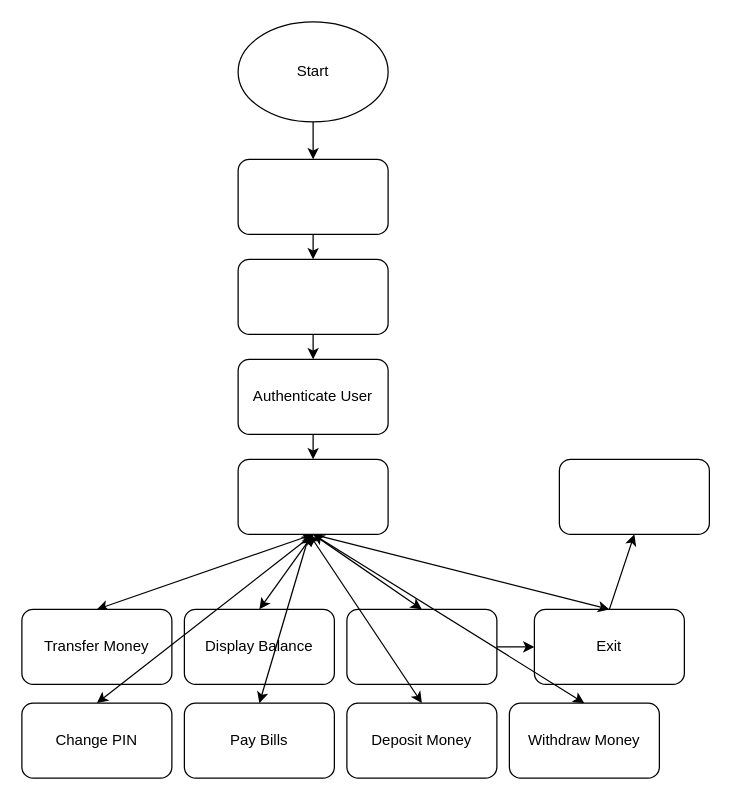
This 731x800 diagram has some shape labels left out. The centre of each missing label's shape, as x and y in pixels:
"Initialize Global Variables" goes at (x=312, y=296).
"Load User Data" goes at (x=312, y=196).
"Main Menu" goes at (x=312, y=496).
"Stop" goes at (x=633, y=496).
"Terminate Account" goes at (x=421, y=646).
